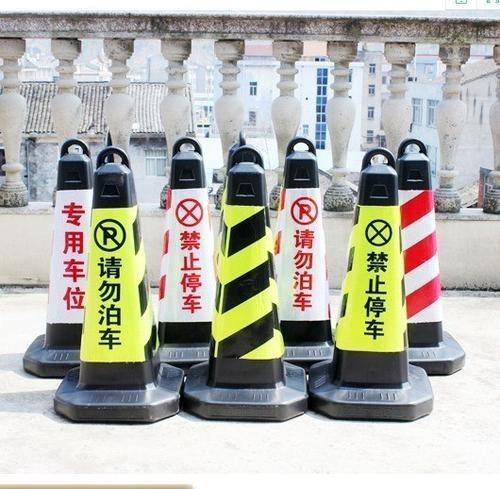cone_barrel: (78, 146, 160, 397), (331, 142, 409, 398), (208, 143, 286, 395), (27, 132, 100, 367), (266, 143, 337, 366), (152, 137, 220, 359), (394, 134, 445, 350)
